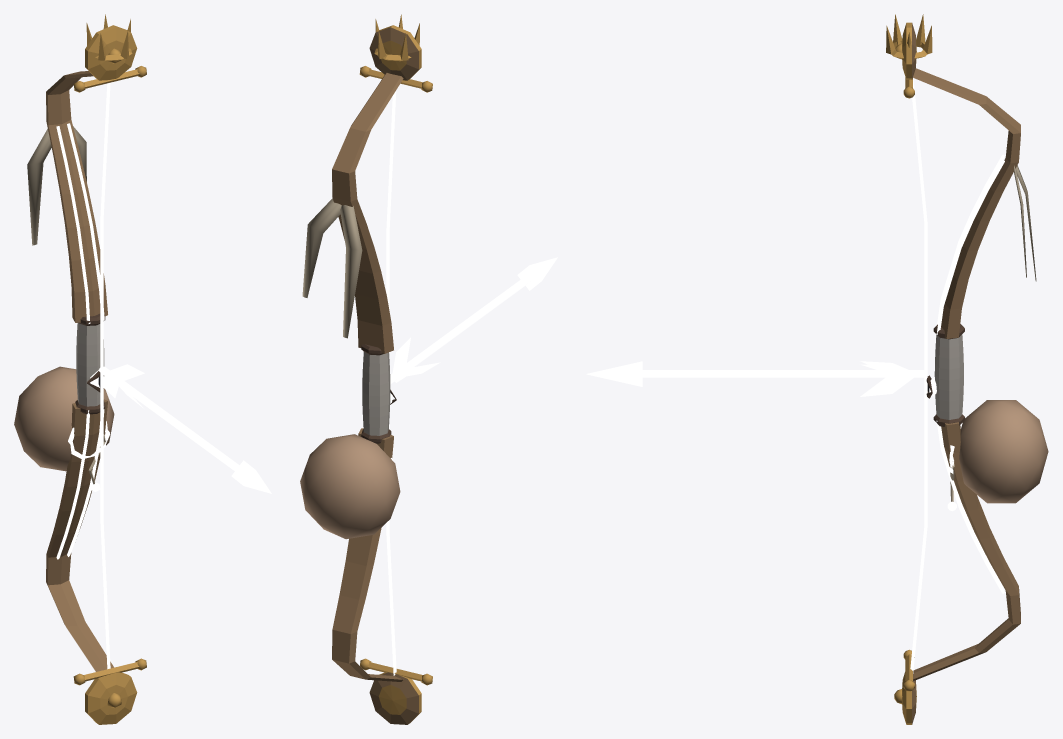
File: bow-oath.glb
The picture shows the model from 3 angles, left to right: view 1: azimuth 30°, elevation 25°; view 2: azimuth 150°, elevation 25°; view 3: azimuth 270°, elevation 25°; orthographic projection.
Parts seen in each view (by area): view 1: bow-oath, pulse_arrow, pulse_vein, string; view 2: bow-oath, pulse_arrow, string; view 3: bow-oath, pulse_arrow, string, pulse_vein.
Part boxes in pixels (x1,y1,x2,y2): bow-oath: [14, 14, 146, 724]; pulse_arrow: [98, 364, 271, 493]; pulse_vein: [56, 123, 104, 559]; string: [100, 82, 110, 669]; bow-oath: [300, 14, 432, 724]; pulse_arrow: [390, 257, 557, 384]; string: [386, 90, 396, 675]; bow-oath: [886, 14, 1048, 724]; pulse_arrow: [586, 361, 925, 396]; string: [910, 78, 927, 673]; pulse_vein: [936, 154, 1004, 593].
Bounding box in the file's own units: 0.2092 × 1.63 × 0.9741.
